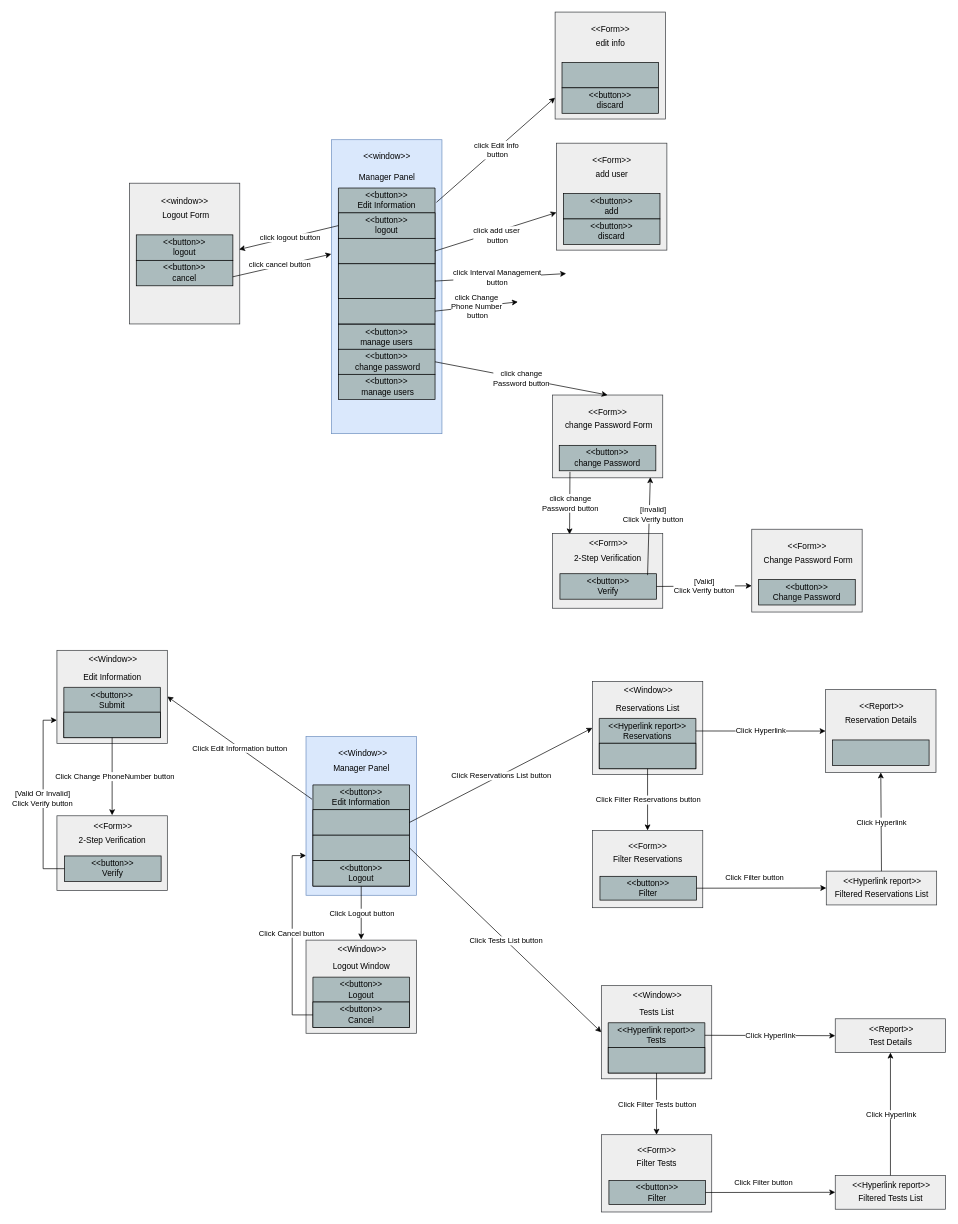
This 958x1224 diagram has some shape labels left out. The box of each missing label's shape, as (x1, y1, x2, y2) in pixels:
<<button>> add user: (338, 238, 435, 264)
<<button>> appointment Management: (338, 263, 435, 298)
<<button>> Cancel Appointment: (832, 739, 929, 765)
<<button>> Change PhoneNumber: (63, 712, 160, 738)
<<button>> Filter Reservations: (599, 743, 696, 769)
<<button>> Filter Tests: (608, 1047, 705, 1073)
<<button>> Reservations List: (312, 809, 410, 835)
<<button>> save: (561, 62, 659, 88)
<<button>> Tests List: (312, 834, 410, 861)
<<button>> Tests Management: (338, 298, 435, 324)
